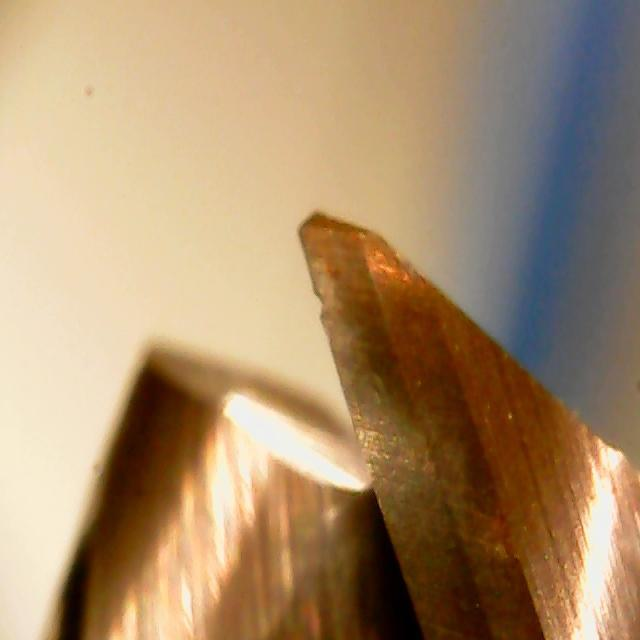Tool-wear-class-1: (289, 206, 410, 404)
